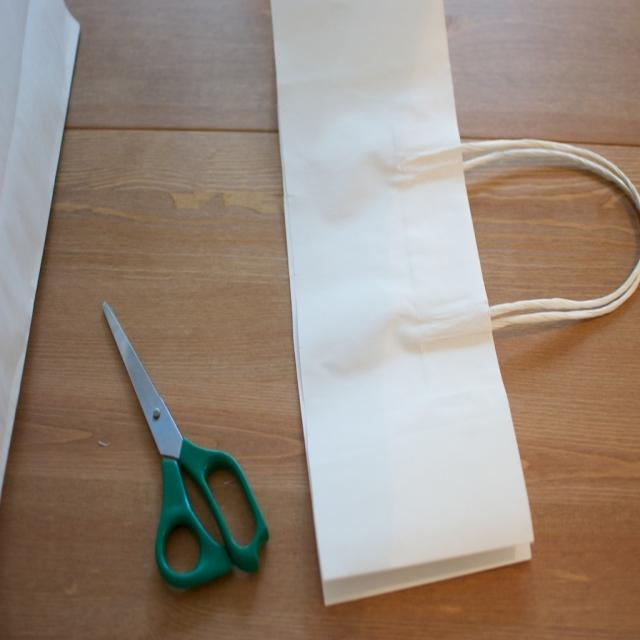scissors: (100, 300, 268, 589)
